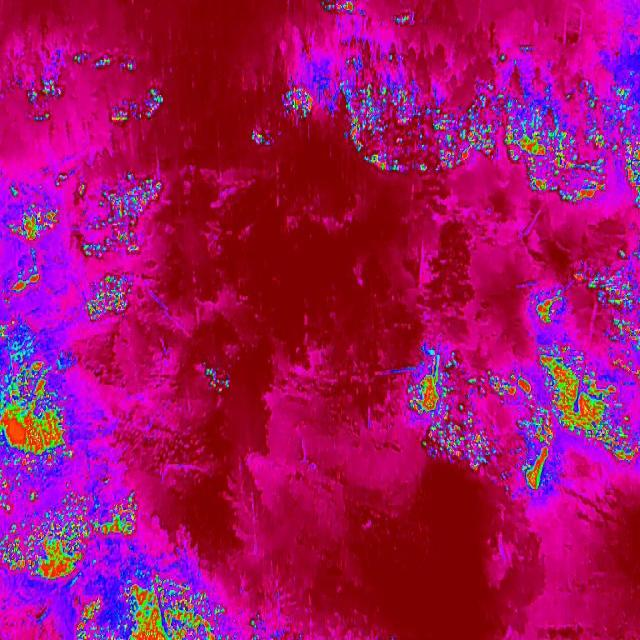fire: (336, 52, 502, 187), (503, 78, 618, 210), (0, 486, 142, 582), (538, 346, 640, 464), (17, 48, 136, 126), (76, 174, 171, 266), (0, 360, 72, 476), (118, 571, 227, 640), (588, 254, 640, 376), (2, 202, 64, 300), (423, 406, 507, 476), (520, 406, 560, 492), (617, 75, 640, 213), (106, 83, 172, 131), (462, 367, 538, 405), (89, 275, 134, 324), (534, 278, 574, 332), (409, 365, 446, 419), (71, 597, 105, 640), (282, 86, 316, 125), (200, 360, 233, 394), (318, 0, 364, 24), (250, 128, 276, 150), (570, 268, 590, 286), (393, 15, 416, 30), (0, 321, 18, 339)
